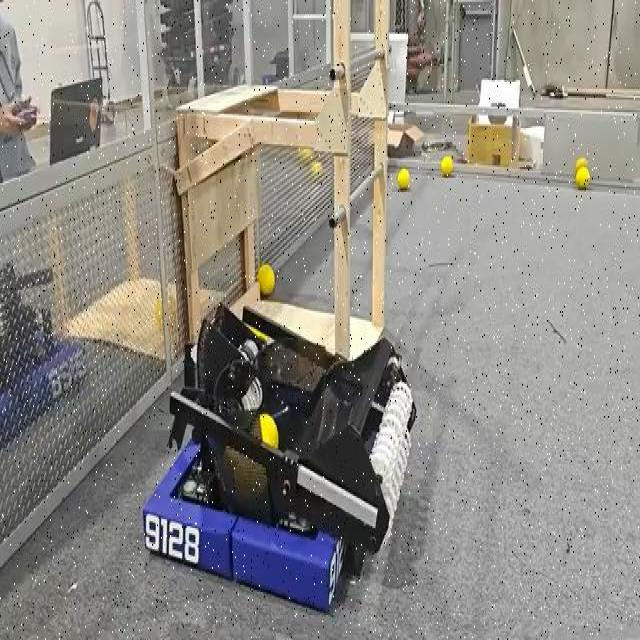Fuel: (258, 413, 279, 450), (259, 414, 278, 448), (257, 264, 275, 296), (257, 263, 274, 295), (575, 167, 589, 189), (441, 155, 454, 177), (397, 167, 409, 189), (440, 156, 453, 176), (575, 157, 588, 174), (575, 156, 587, 172), (298, 147, 309, 163), (298, 148, 312, 160)
